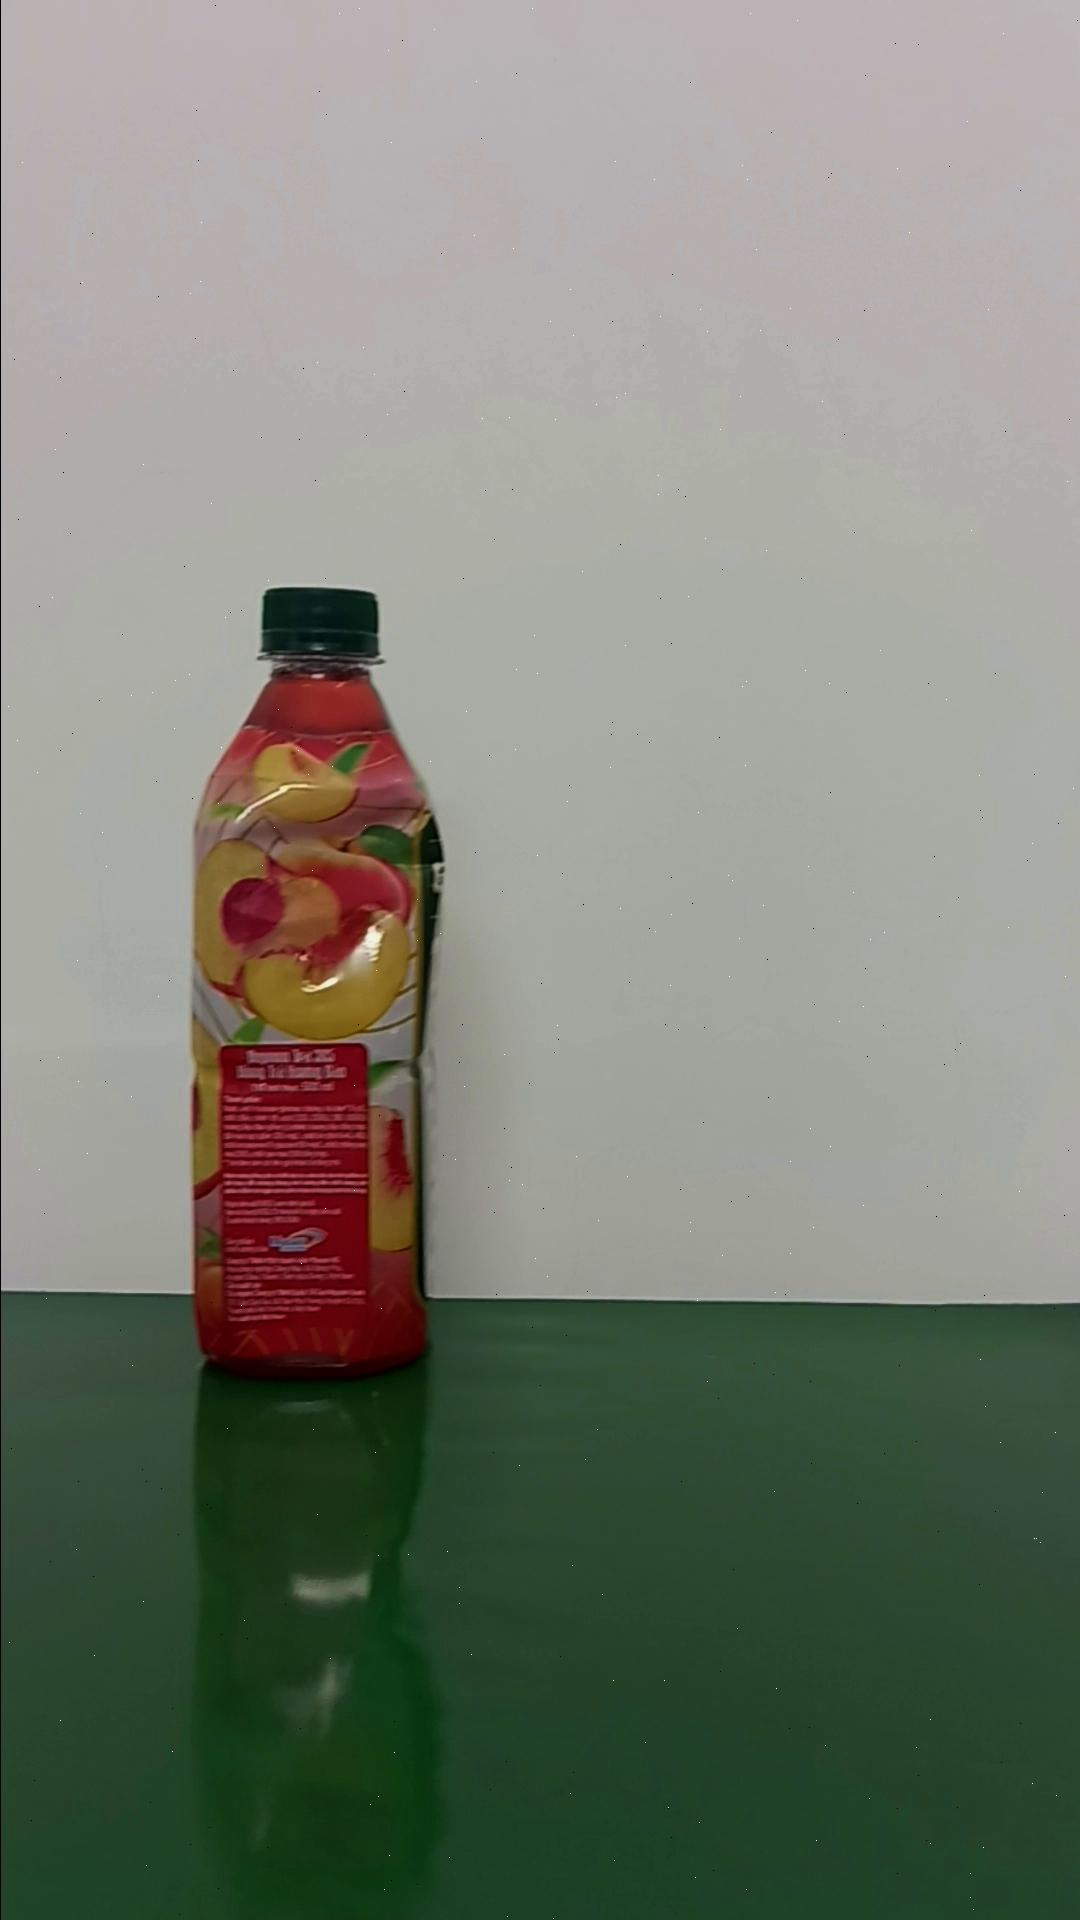loi meo sp: (186, 584, 444, 1379)
